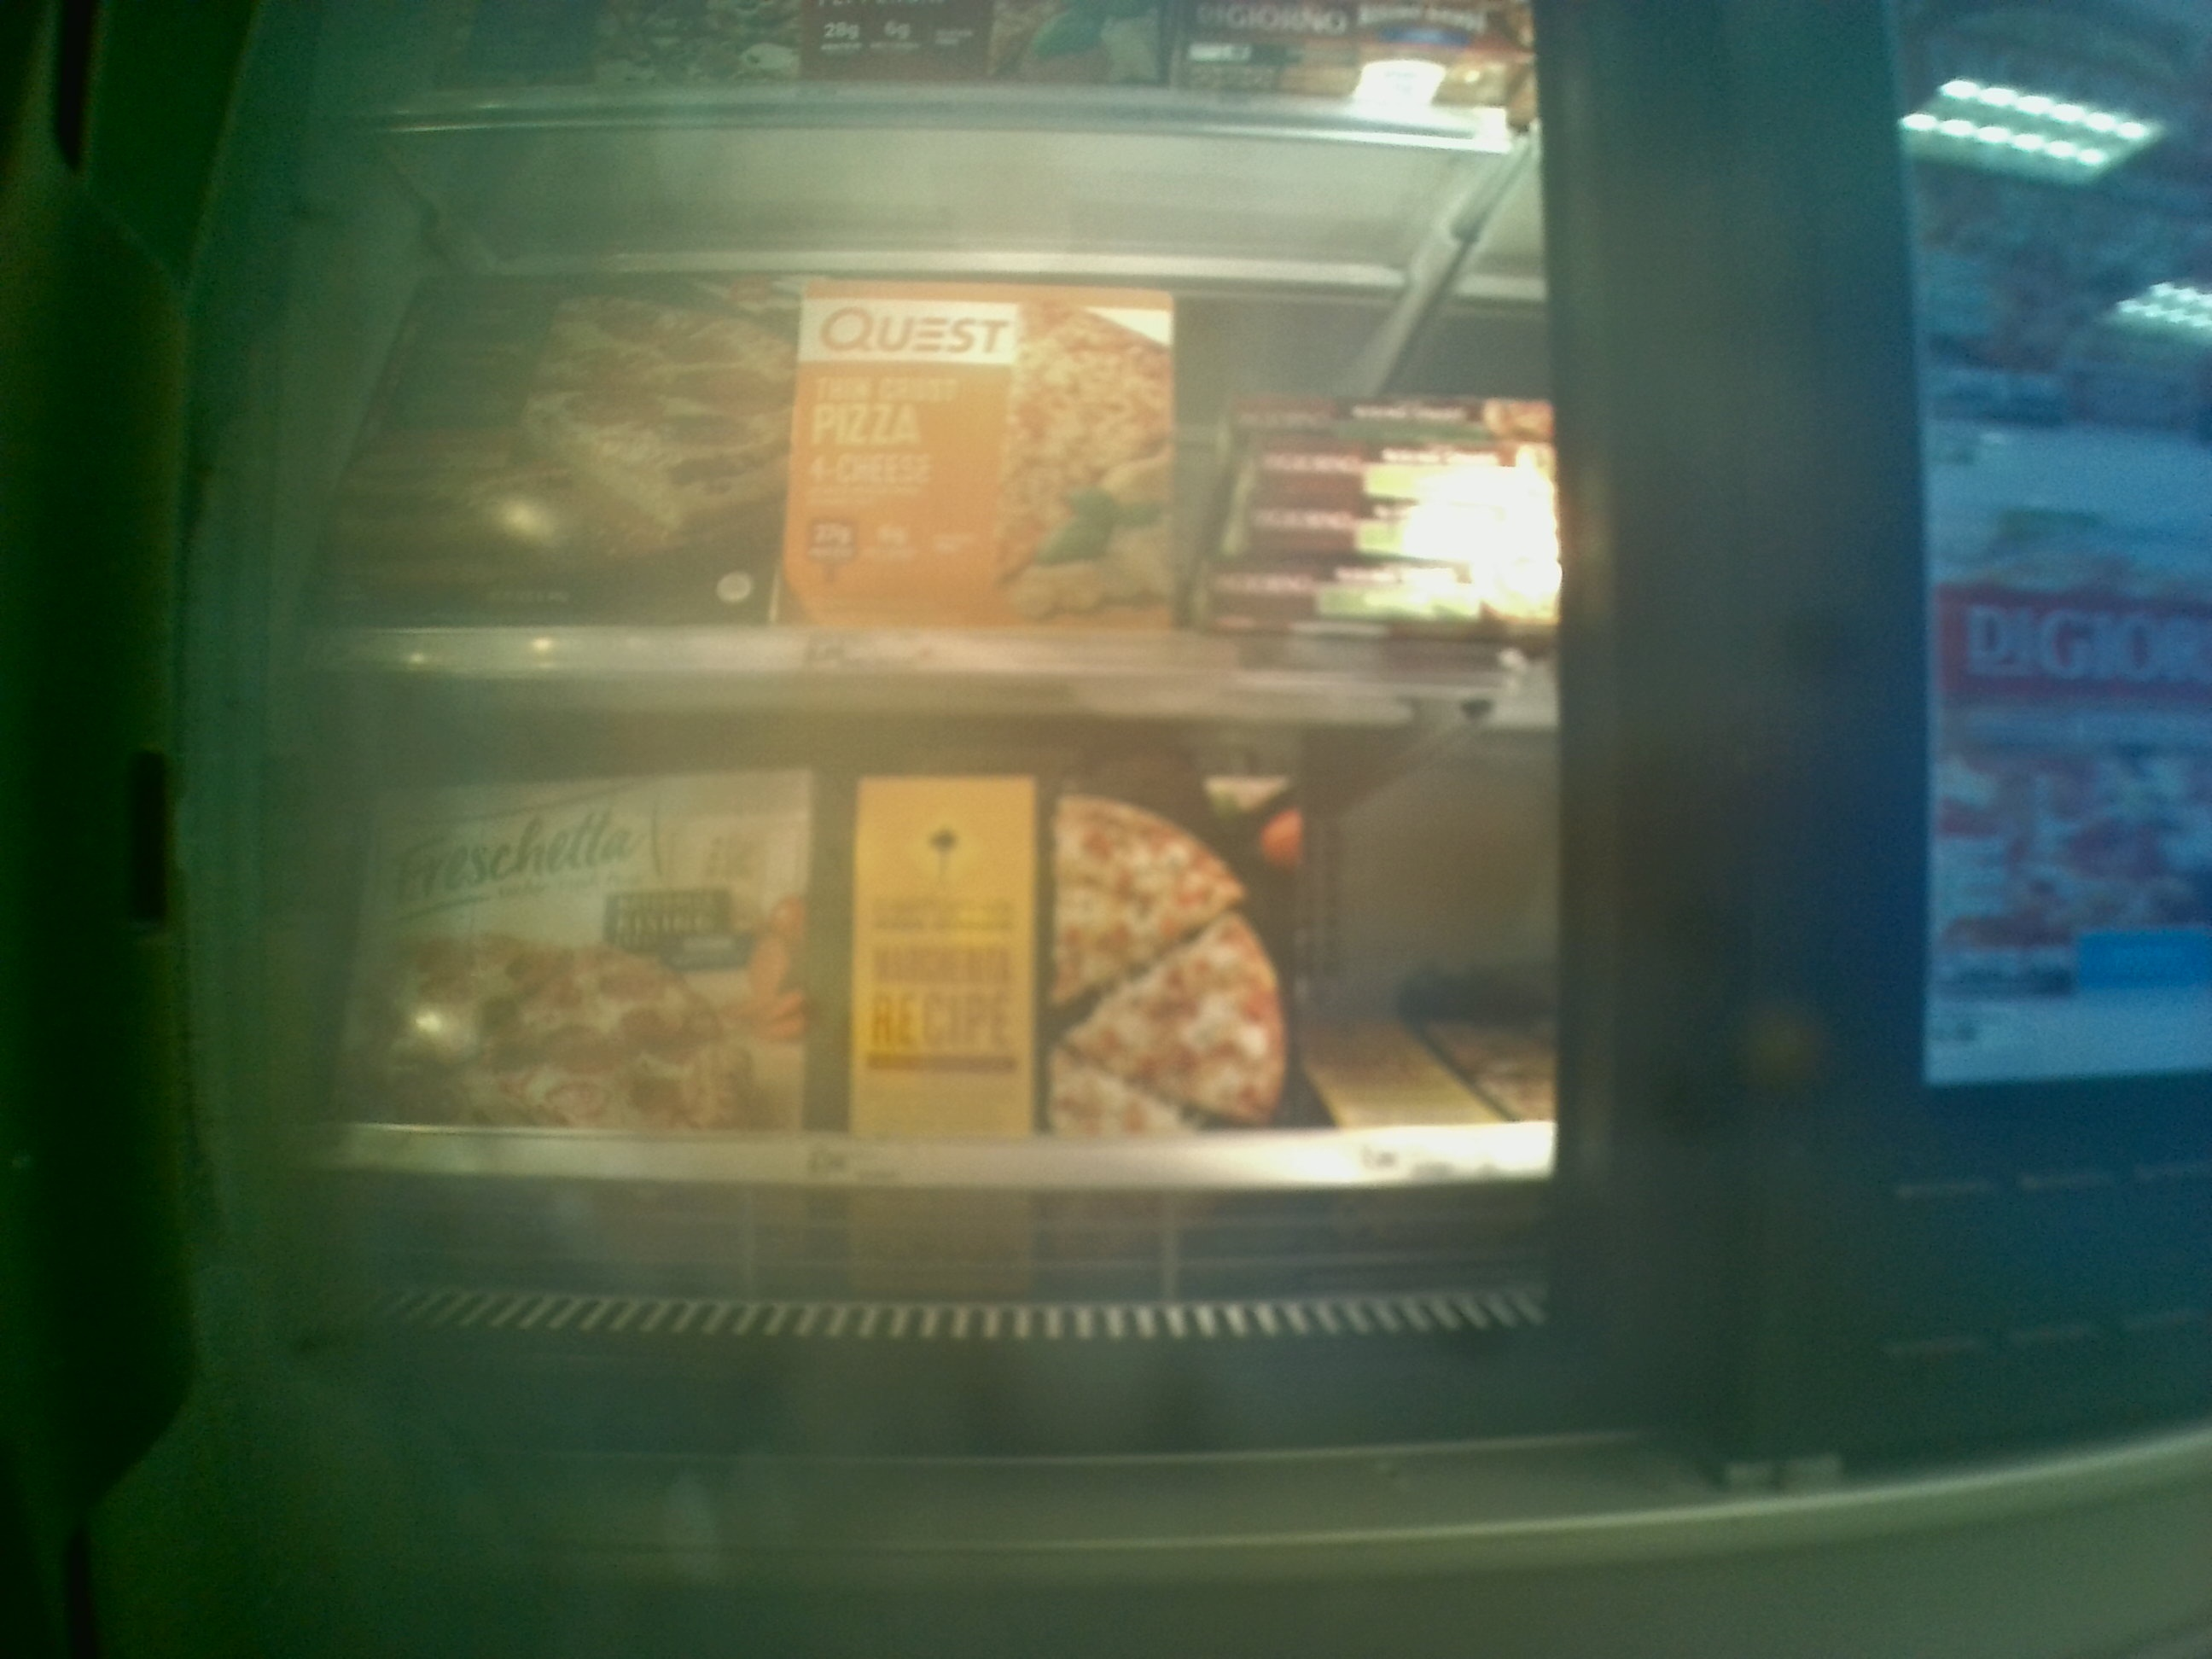shelf: (307, 659, 1550, 1188)
